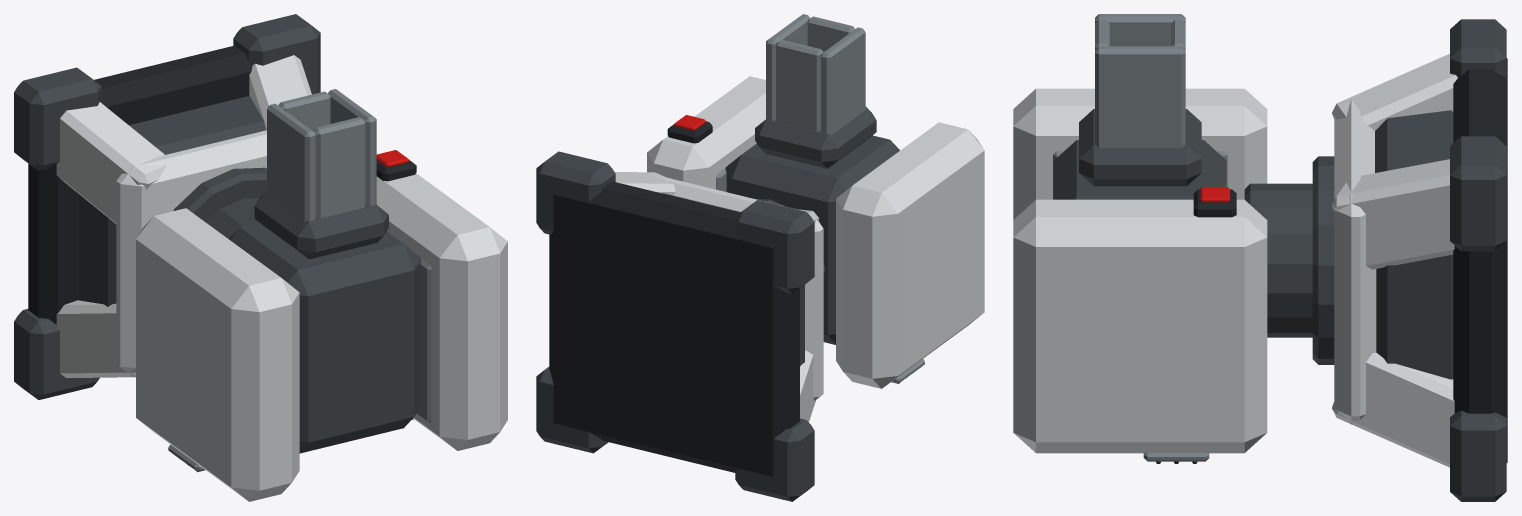
Rendered from Single_C.obj.
The picture shows the model from 3 angles, left to right: view 1: azimuth 30°, elevation 25°; view 2: azimuth 150°, elevation 25°; view 3: azimuth 270°, elevation 25°; orthographic projection. The views are drawn at different scales.
Visible parts, largest first — view 1: Single_C_Open_cheek_1_LOW, Single_C_Exposed_core_LOW, Single_C_Open_cheek_-1_LOW, Single_C_Foundation_LOW, Single_C_Upper_base_LOW, Single_C_Lower_core_LOW, Single_C_Slope_1_-1_LOW, Single_C_Anchor_1_-1_LOW, Single_C_Barrel_side_0_1_LOW, Single_C_Mantlet_0_LOW, Single_C_Barrel_cap_0_1_LOW, Single_C_Slope_1_1_LOW (+9 smaller); view 2: Single_C_Foundation_LOW, Single_C_Open_cheek_1_LOW, Single_C_Exposed_core_LOW, Single_C_Open_cheek_-1_LOW, Single_C_Anchor_1_-1_LOW, Single_C_Mantlet_0_LOW, Single_C_Barrel_side_0_1_LOW, Single_C_Upper_base_LOW, Single_C_Barrel_cap_0_-1_LOW, Single_C_Anchor_1_1_LOW, Single_C_Anchor_-1_-1_LOW, Single_C_Anchor_-1_1_LOW (+6 smaller); view 3: Single_C_Open_cheek_-1_LOW, Single_C_Foundation_LOW, Single_C_Lower_core_LOW, Single_C_Open_cheek_1_LOW, Single_C_Upper_base_LOW, Single_C_Barrel_side_0_-1_LOW, Single_C_Slope_-1_-1_LOW, Single_C_Yaw_column_LOW, Single_C_Slope_-1_1_LOW, Single_C_Anchor_-1_-1_LOW, Single_C_Mantlet_0_LOW, Single_C_Anchor_-1_1_LOW (+7 smaller).
Part boxes in pixels (bbox=[...]): Single_C_Open_cheek_1_LOW: bbox=[136, 208, 299, 501]; Single_C_Exposed_core_LOW: bbox=[229, 222, 421, 453]; Single_C_Open_cheek_-1_LOW: bbox=[376, 173, 507, 450]; Single_C_Foundation_LOW: bbox=[28, 45, 252, 324]; Single_C_Upper_base_LOW: bbox=[116, 130, 266, 376]; Single_C_Lower_core_LOW: bbox=[78, 96, 265, 306]; Single_C_Slope_1_-1_LOW: bbox=[56, 102, 166, 223]; Single_C_Anchor_1_-1_LOW: bbox=[14, 67, 101, 170]; Single_C_Barrel_side_0_1_LOW: bbox=[267, 103, 316, 222]; Single_C_Mantlet_0_LOW: bbox=[254, 190, 388, 259]; Single_C_Barrel_cap_0_1_LOW: bbox=[313, 117, 365, 218]; Single_C_Slope_1_1_LOW: bbox=[56, 300, 135, 378]; Single_C_Foundation_LOW: bbox=[549, 181, 799, 476]; Single_C_Open_cheek_1_LOW: bbox=[836, 122, 984, 388]; Single_C_Exposed_core_LOW: bbox=[725, 135, 899, 344]; Single_C_Open_cheek_-1_LOW: bbox=[647, 76, 765, 189]; Single_C_Anchor_1_-1_LOW: bbox=[735, 200, 814, 293]; Single_C_Mantlet_0_LOW: bbox=[755, 107, 876, 168]; Single_C_Barrel_side_0_1_LOW: bbox=[821, 27, 865, 135]; Single_C_Upper_base_LOW: bbox=[649, 173, 823, 400]; Single_C_Barrel_cap_0_-1_LOW: bbox=[776, 39, 823, 131]; Single_C_Anchor_1_1_LOW: bbox=[735, 418, 814, 501]; Single_C_Anchor_-1_-1_LOW: bbox=[536, 151, 615, 234]; Single_C_Anchor_-1_1_LOW: bbox=[536, 367, 608, 453]; Single_C_Open_cheek_-1_LOW: bbox=[1013, 199, 1267, 453]; Single_C_Foundation_LOW: bbox=[1453, 58, 1507, 462]; Single_C_Lower_core_LOW: bbox=[1375, 110, 1453, 379]; Single_C_Open_cheek_1_LOW: bbox=[1013, 88, 1267, 219]; Single_C_Upper_base_LOW: bbox=[1334, 96, 1376, 424]; Single_C_Barrel_side_0_-1_LOW: bbox=[1095, 46, 1185, 148]; Single_C_Slope_-1_-1_LOW: bbox=[1332, 159, 1454, 269]; Single_C_Yaw_column_LOW: bbox=[1244, 183, 1312, 337]; Single_C_Slope_-1_1_LOW: bbox=[1332, 352, 1454, 467]; Single_C_Anchor_-1_-1_LOW: bbox=[1450, 136, 1506, 251]; Single_C_Mantlet_0_LOW: bbox=[1079, 109, 1201, 186]; Single_C_Anchor_-1_1_LOW: bbox=[1450, 410, 1506, 501].
Size of the model in its own units: 1.62 by 1.94 by 2.18.
Materials: 1 (1 with a texture image).
